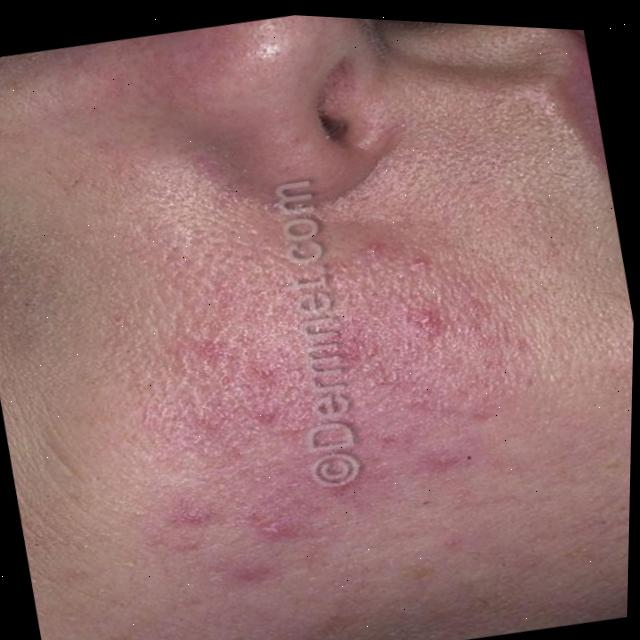Rosacea: (78, 181, 538, 637)
